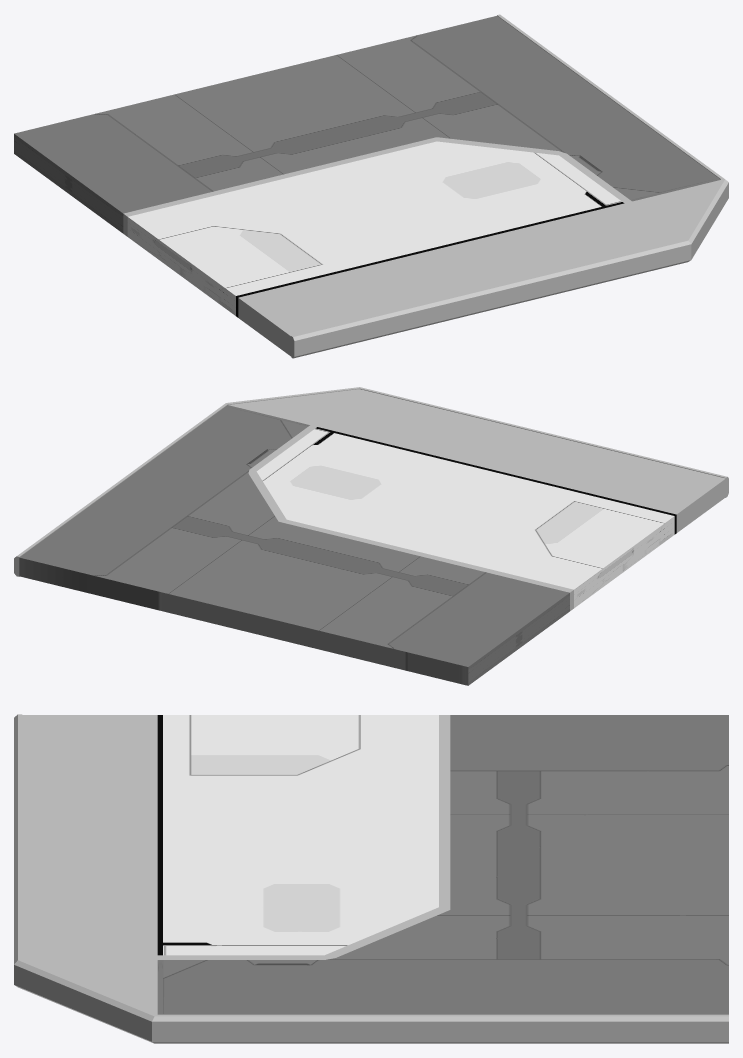
The model's file is SM_Platform_Interior_5x5_End.fbx.
The picture shows the model from 3 angles, top to bottom: view 1: azimuth 30°, elevation 25°; view 2: azimuth 150°, elevation 25°; view 3: azimuth 270°, elevation 25°; orthographic projection. The views are drawn at different scales.
Visible parts, largest first — view 1: SM_Platform_Interior_5x5_End; view 2: SM_Platform_Interior_5x5_End; view 3: SM_Platform_Interior_5x5_End.
Boxes of the visible parts, <box> form: SM_Platform_Interior_5x5_End: <box>14,14,728,358</box>; SM_Platform_Interior_5x5_End: <box>14,387,728,685</box>; SM_Platform_Interior_5x5_End: <box>14,714,728,1043</box>.
Size of the model in its own units: 506 by 21.21 by 503.
